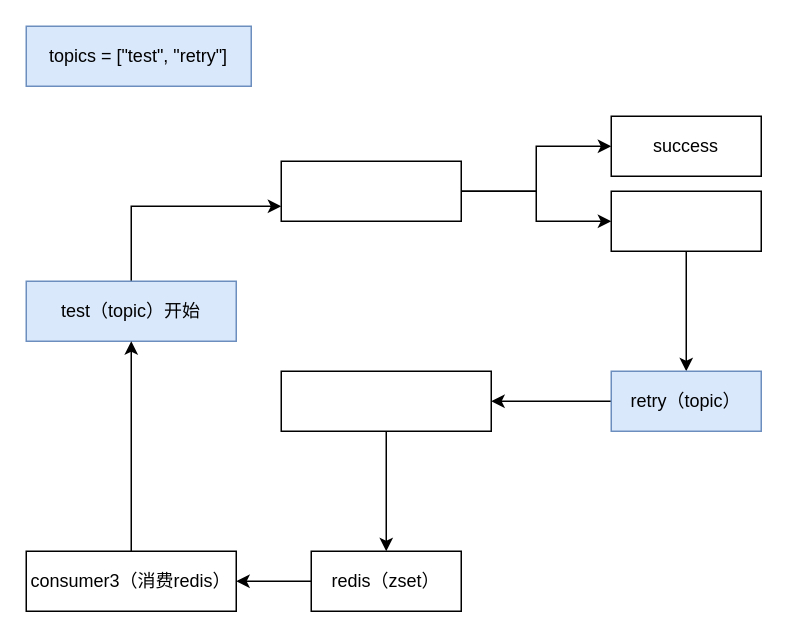
The diagram is 788 pixels wide and 638 high, and some of its shapes have lost their labels. The shapes that lost their labels are listed below. From the top down, each one's centre as x and y in pixels, then its label:
At point 370,190: "consumer（消费）".
At point 685,220: "failure".
At point 385,400: "consumer2（消费retry）".
